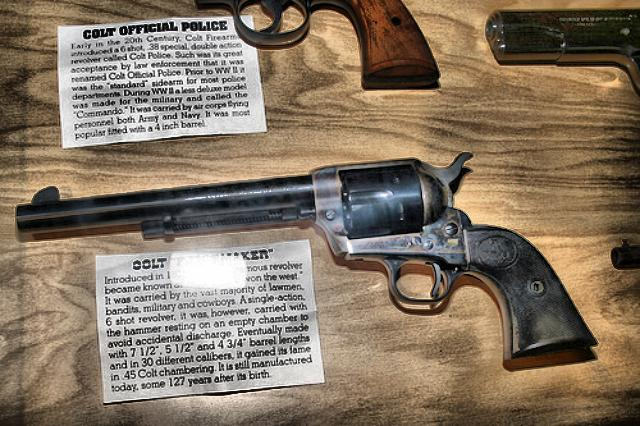pistol: (12, 150, 594, 360), (192, 0, 436, 88), (479, 8, 637, 100)
